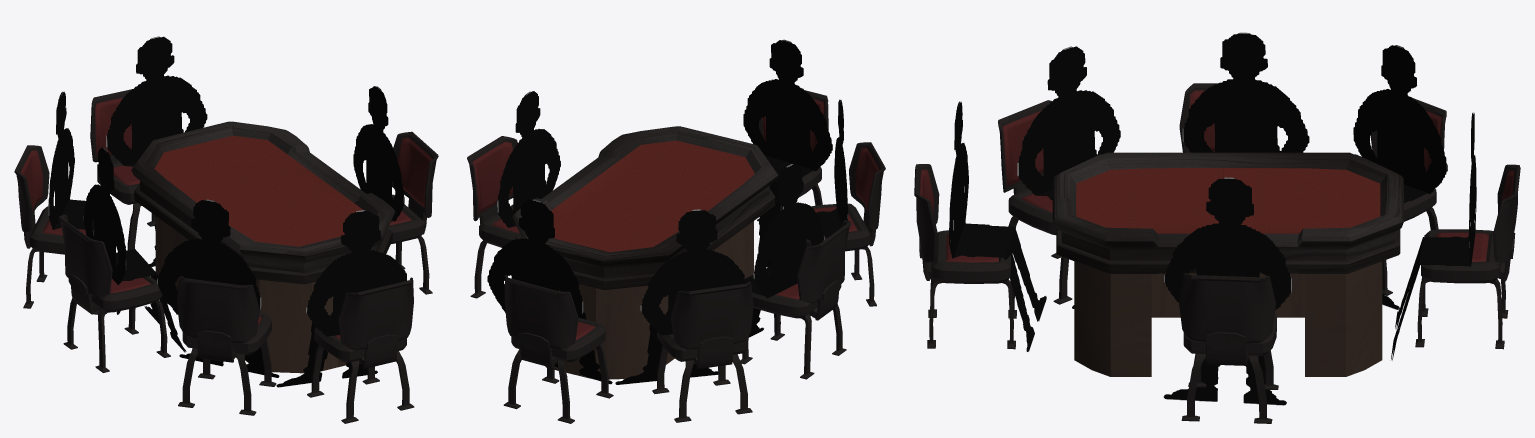
Rendered from shadow table.fbx.
3 views of the same model, side by side, from view 1: azimuth 30°, elevation 25°; view 2: azimuth 150°, elevation 25°; view 3: azimuth 270°, elevation 25° (orthographic). The views are drawn at different scales.
Parts seen in each view (by area): view 1: shadow chairs, shadow table.001, shadow person; view 2: shadow person, shadow table.001, shadow chairs; view 3: shadow table.001, shadow person, shadow chairs.
Part boxes in pixels (x1,y1,x2,y2): shadow chairs: (14, 89, 438, 423); shadow table.001: (131, 121, 395, 373); shadow person: (48, 36, 406, 387); shadow person: (487, 39, 847, 384); shadow table.001: (512, 126, 778, 379); shadow chairs: (467, 90, 885, 423); shadow table.001: (1052, 152, 1403, 376); shadow person: (949, 32, 1476, 405); shadow chairs: (914, 83, 1520, 423).
Bounding box in the file's own units: 3.22 × 2.03 × 4.22.
Materials: 3 (3 with a texture image).
